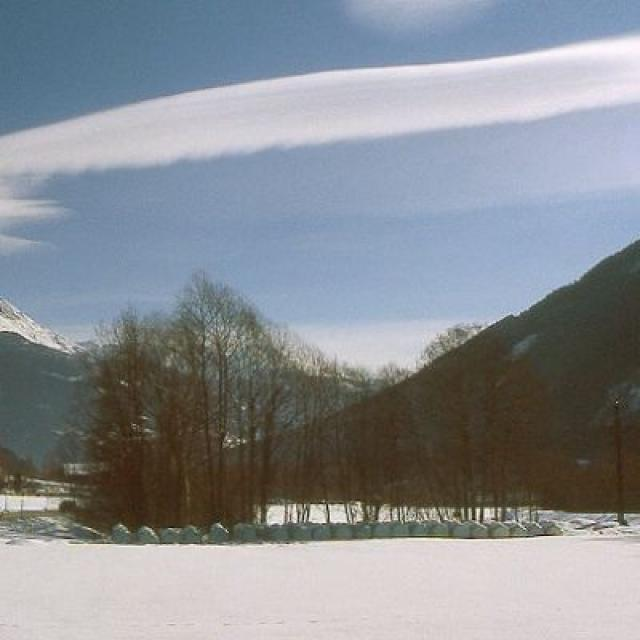Ac: (1, 31, 640, 208)
